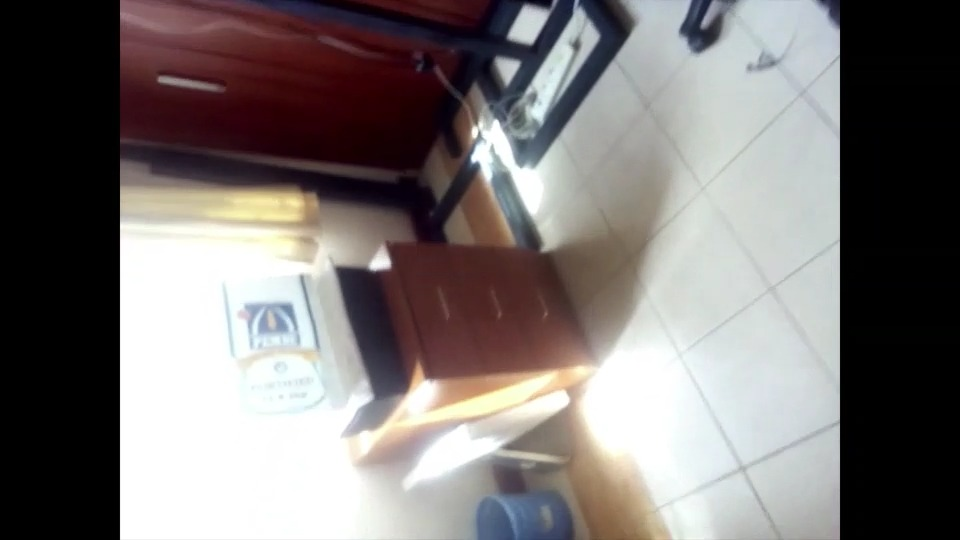wheat_flour_blue_label: (219, 273, 324, 447)
